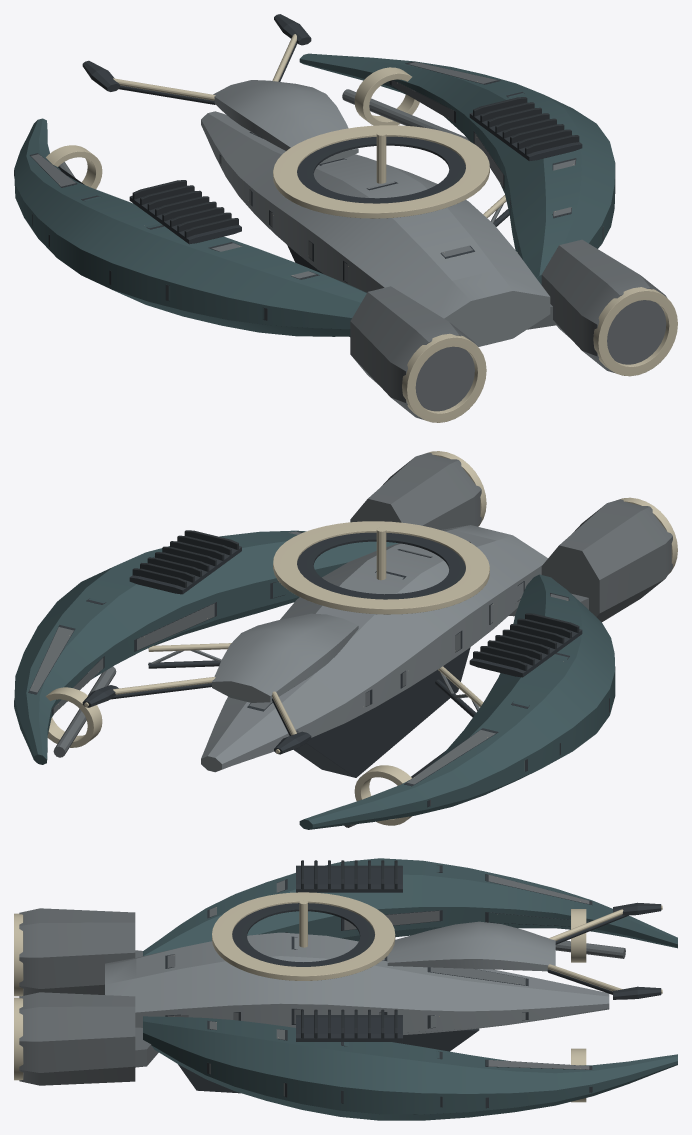
Rendered from support_weaver.glb.
3 views of the same model, one above another, from view 1: azimuth 30°, elevation 25°; view 2: azimuth 150°, elevation 25°; view 3: azimuth 270°, elevation 25° (orthographic). The views are drawn at different scales.
Visible parts, largest first — view 1: v4_council_paint, v4_council_hull, v4_council_secondary, v4_council_trim, v4_council_dark, v4_council_ceramic; view 2: v4_council_paint, v4_council_hull, v4_council_secondary, v4_council_dark, v4_council_trim, v4_council_ceramic; view 3: v4_council_paint, v4_council_hull, v4_council_secondary, v4_council_dark, v4_council_trim, v4_council_ceramic.
Boxes of the visible parts, <box> form: v4_council_paint: <box>14,53,615,336</box>; v4_council_hull: <box>201,80,550,346</box>; v4_council_secondary: <box>31,62,666,419</box>; v4_council_trim: <box>46,34,677,422</box>; v4_council_dark: <box>14,14,615,336</box>; v4_council_ceramic: <box>132,97,579,237</box>; v4_council_paint: <box>14,530,615,829</box>; v4_council_hull: <box>201,525,547,772</box>; v4_council_secondary: <box>29,452,672,827</box>; v4_council_dark: <box>14,531,615,807</box>; v4_council_trim: <box>33,451,677,825</box>; v4_council_ceramic: <box>132,530,579,670</box>; v4_council_paint: <box>143,858,677,1120</box>; v4_council_hull: <box>105,921,609,1034</box>; v4_council_secondary: <box>19,875,625,1096</box>; v4_council_dark: <box>165,864,661,1108</box>; v4_council_trim: <box>14,877,662,1102</box>; v4_council_ceramic: <box>301,860,397,1038</box>.
Bounding box in the file's own units: 63.1 × 24.92 × 78.21.
